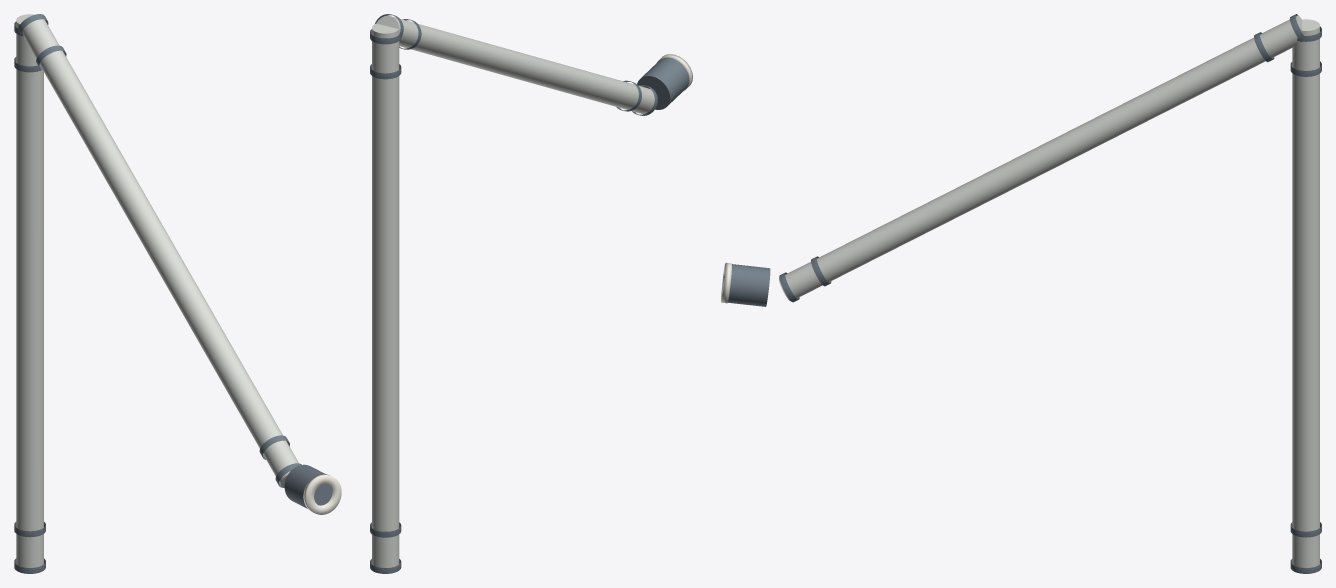
The model's file is iss_canadarm2.base_roll.shoulder_pitch.glb.
The picture shows the model from 3 angles, left to right: view 1: azimuth 30°, elevation 25°; view 2: azimuth 150°, elevation 25°; view 3: azimuth 270°, elevation 25°; orthographic projection.
Visible parts, largest first — view 1: iss_canadarm2.base_roll.shoulder_pitch.mesh_Pale_thermal_bla, iss_canadarm2.base_roll.shoulder_pitch.elbow_pitch.mesh_Pale, iss_canadarm2.base_roll.shoulder_pitch.elbow_pitch.wrist_pit (×2), iss_canadarm2.base_roll.shoulder_pitch.elbow_pitch.mesh_Mach, iss_canadarm2.base_roll.shoulder_pitch.mesh_Machined_steel; view 2: iss_canadarm2.base_roll.shoulder_pitch.mesh_Pale_thermal_bla, iss_canadarm2.base_roll.shoulder_pitch.elbow_pitch.mesh_Pale, iss_canadarm2.base_roll.shoulder_pitch.elbow_pitch.wrist_pit, iss_canadarm2.base_roll.shoulder_pitch.mesh_Machined_steel, iss_canadarm2.base_roll.shoulder_pitch.elbow_pitch.mesh_Mach; view 3: iss_canadarm2.base_roll.shoulder_pitch.elbow_pitch.mesh_Pale, iss_canadarm2.base_roll.shoulder_pitch.mesh_Pale_thermal_bla, iss_canadarm2.base_roll.shoulder_pitch.elbow_pitch.wrist_pit, iss_canadarm2.base_roll.shoulder_pitch.elbow_pitch.mesh_Mach, iss_canadarm2.base_roll.shoulder_pitch.mesh_Machined_steel.
Part boxes in pixels (bbox=[...]): iss_canadarm2.base_roll.shoulder_pitch.mesh_Pale_thermal_bla: bbox=[16, 14, 43, 567]; iss_canadarm2.base_roll.shoulder_pitch.elbow_pitch.mesh_Pale: bbox=[22, 19, 298, 487]; iss_canadarm2.base_roll.shoulder_pitch.elbow_pitch.wrist_pit (×2): bbox=[284, 464, 341, 514]; iss_canadarm2.base_roll.shoulder_pitch.elbow_pitch.mesh_Mach: bbox=[18, 14, 301, 487]; iss_canadarm2.base_roll.shoulder_pitch.mesh_Machined_steel: bbox=[14, 21, 45, 573]; iss_canadarm2.base_roll.shoulder_pitch.mesh_Pale_thermal_bla: bbox=[372, 23, 399, 567]; iss_canadarm2.base_roll.shoulder_pitch.elbow_pitch.mesh_Pale: bbox=[376, 15, 654, 114]; iss_canadarm2.base_roll.shoulder_pitch.elbow_pitch.wrist_pit: bbox=[637, 57, 689, 109]; iss_canadarm2.base_roll.shoulder_pitch.mesh_Machined_steel: bbox=[370, 29, 401, 573]; iss_canadarm2.base_roll.shoulder_pitch.elbow_pitch.mesh_Mach: bbox=[375, 14, 657, 115]; iss_canadarm2.base_roll.shoulder_pitch.elbow_pitch.mesh_Pale: bbox=[779, 15, 1302, 301]; iss_canadarm2.base_roll.shoulder_pitch.mesh_Pale_thermal_bla: bbox=[1292, 19, 1319, 567]; iss_canadarm2.base_roll.shoulder_pitch.elbow_pitch.wrist_pit: bbox=[728, 264, 770, 306]; iss_canadarm2.base_roll.shoulder_pitch.elbow_pitch.mesh_Mach: bbox=[779, 14, 1303, 302]; iss_canadarm2.base_roll.shoulder_pitch.mesh_Machined_steel: bbox=[1290, 26, 1321, 573].
Size of the model in its own units: 0.51 by 7.71 by 7.61.
